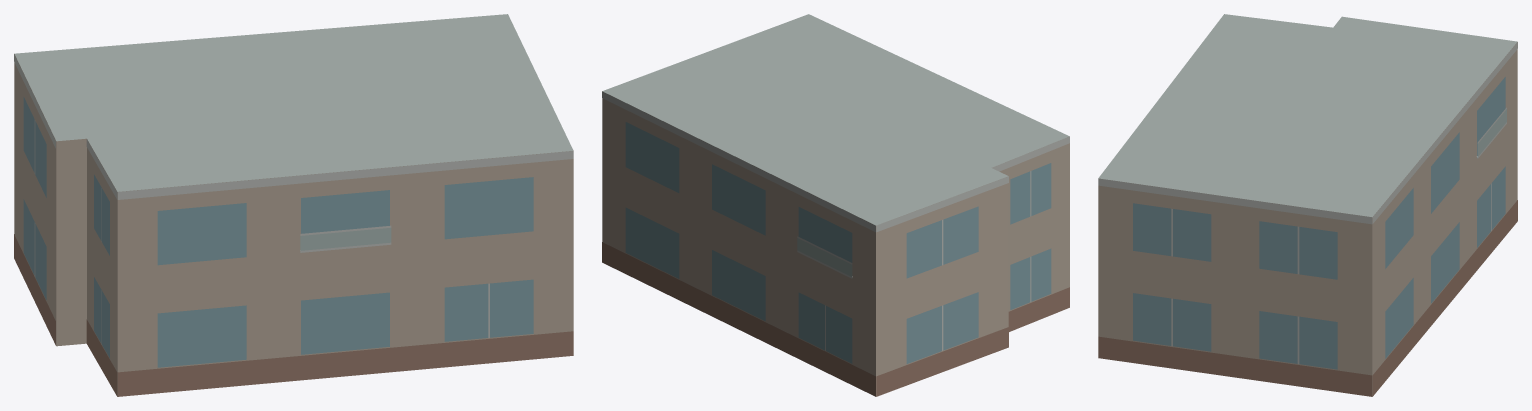
The model's file is survey-upis-32713920.glb.
3 renders of one model, left to right at view 1: azimuth 30°, elevation 25°; view 2: azimuth 150°, elevation 25°; view 3: azimuth 270°, elevation 25°, orthographic. The views are drawn at different scales.
Visible parts, largest first — view 1: survey-upis-32713920.tmp; view 2: survey-upis-32713920.tmp; view 3: survey-upis-32713920.tmp.
Part boxes in pixels (x1,y1,x2,y2): survey-upis-32713920.tmp: [14, 14, 573, 396]; survey-upis-32713920.tmp: [602, 14, 1069, 396]; survey-upis-32713920.tmp: [1098, 14, 1517, 396].
Size of the model in its own units: 14.81 by 6.1 by 12.92.
